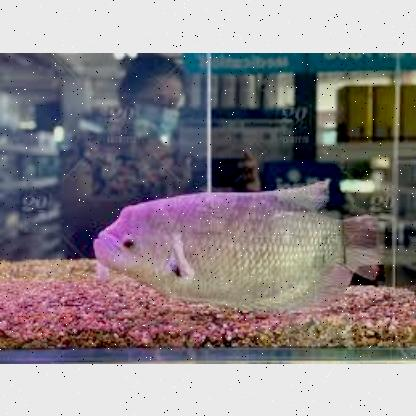gurame: (89, 184, 382, 310)
